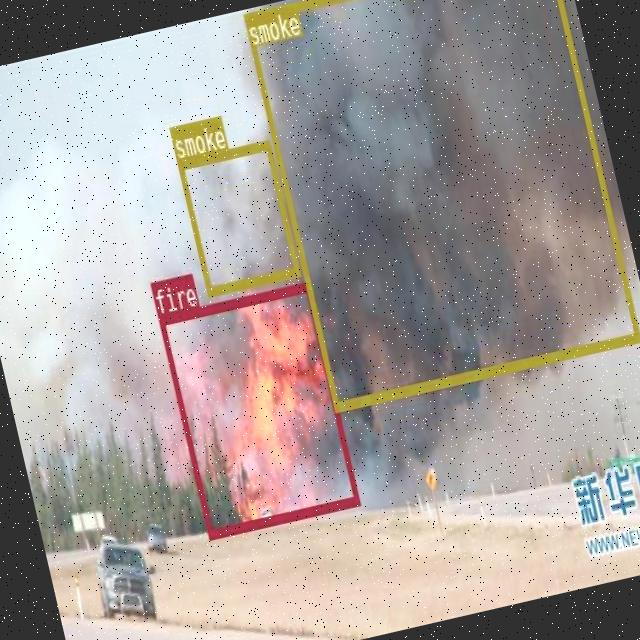fire: (157, 281, 359, 538)
smoke: (242, 0, 639, 410), (175, 138, 299, 295)
